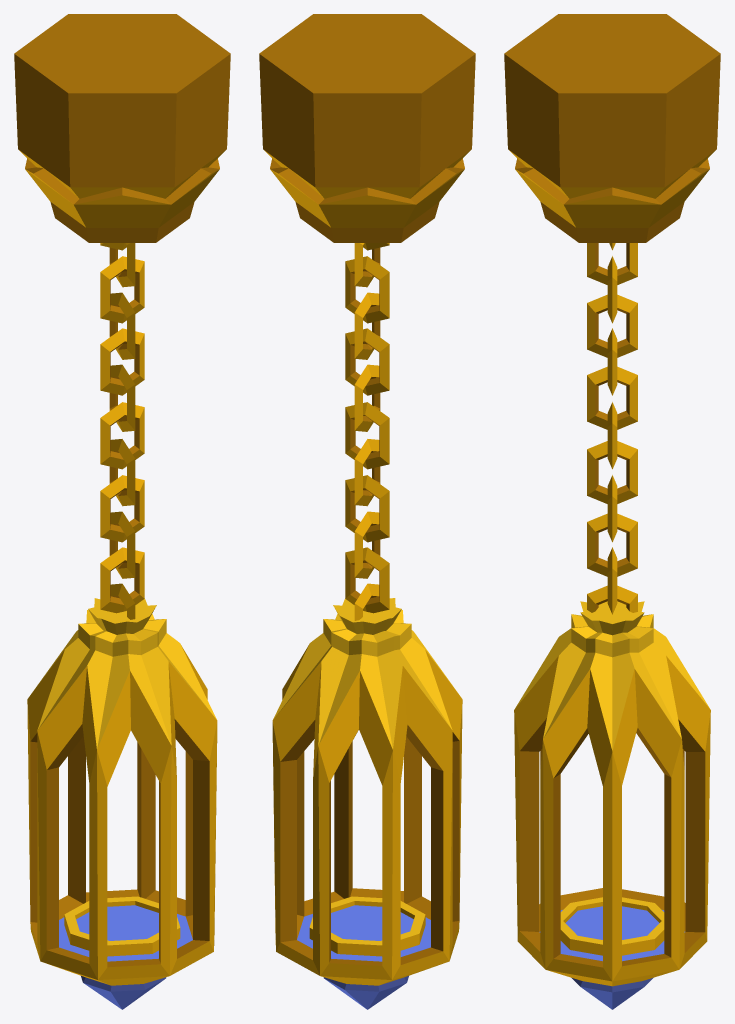
Rendered from Ceiling_Lamp_01.glb.
3 renders of one model, left to right at view 1: azimuth 30°, elevation 25°; view 2: azimuth 150°, elevation 25°; view 3: azimuth 270°, elevation 25°, orthographic.
Visible parts, largest first — view 1: Ceiling_Lamp_01; view 2: Ceiling_Lamp_01; view 3: Ceiling_Lamp_01.
Boxes of the visible parts, <box> form: Ceiling_Lamp_01: <box>14,14,230,1009</box>; Ceiling_Lamp_01: <box>259,14,475,1009</box>; Ceiling_Lamp_01: <box>504,14,720,1009</box>.
Size of what is drawn, in the model's own units: 0.6006 by 3.08 by 0.6326.
Materials: 1 (1 with a texture image).
